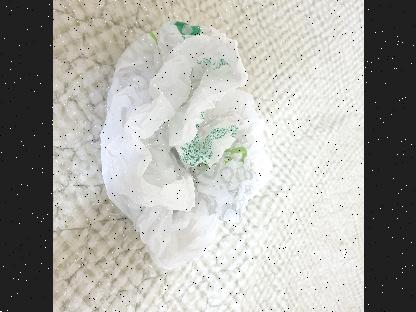Others: (96, 17, 276, 278)
